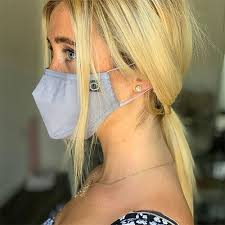with-mask: (28, 1, 183, 145)
